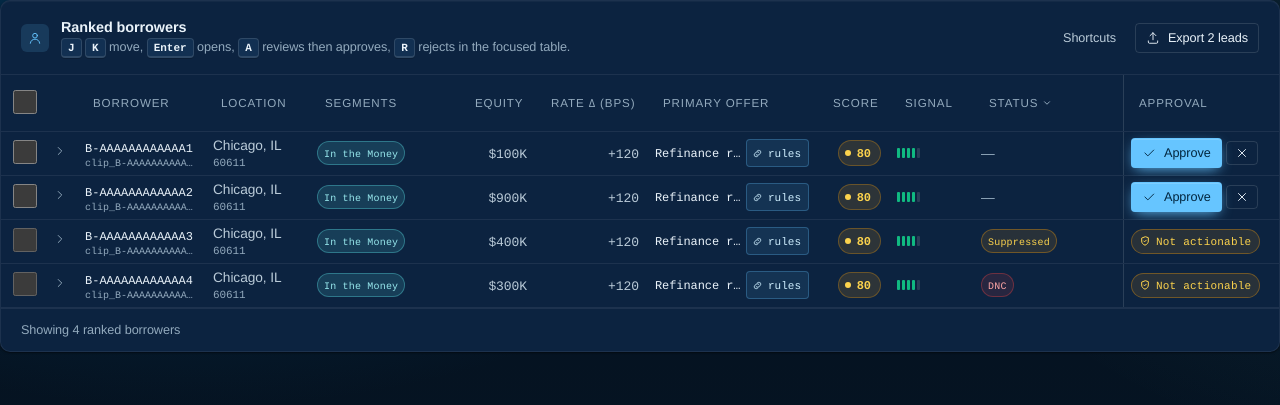
Test: LeadTable CSV export › confirms the export with the same count the file holds
Click the button with test id "lead-export": coordinates (1197, 38) [1135,23,1259,53]
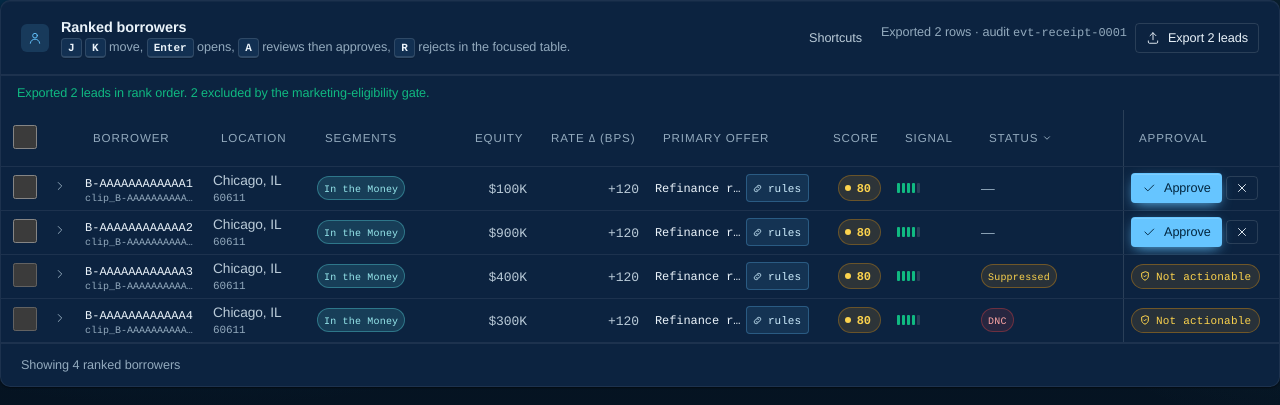
Result: the message with test id "lead-export-notice" reads "Exported 2 leads in rank order. 2 excluded by the marketing-eligibility gate." at [17,85,430,101]
